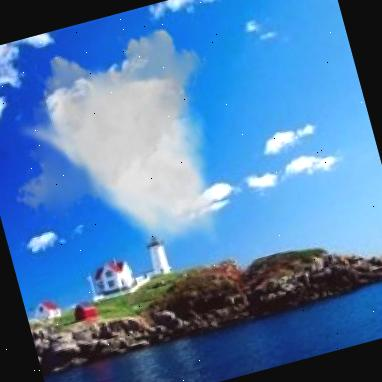smoke: (28, 26, 244, 271)
